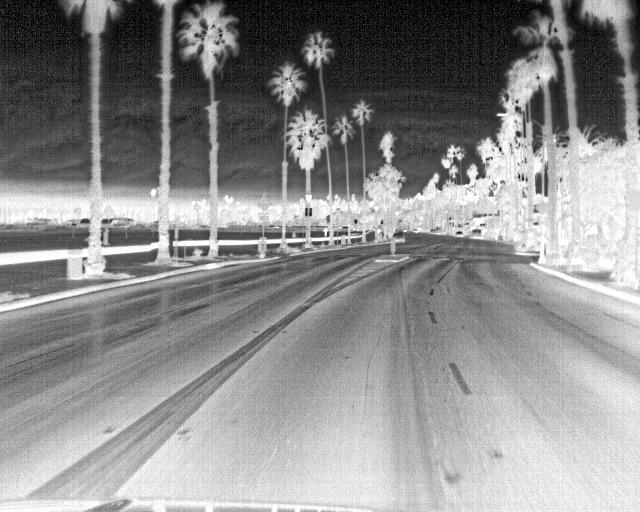car: (390, 229, 406, 244), (468, 227, 482, 239), (453, 229, 465, 237)
